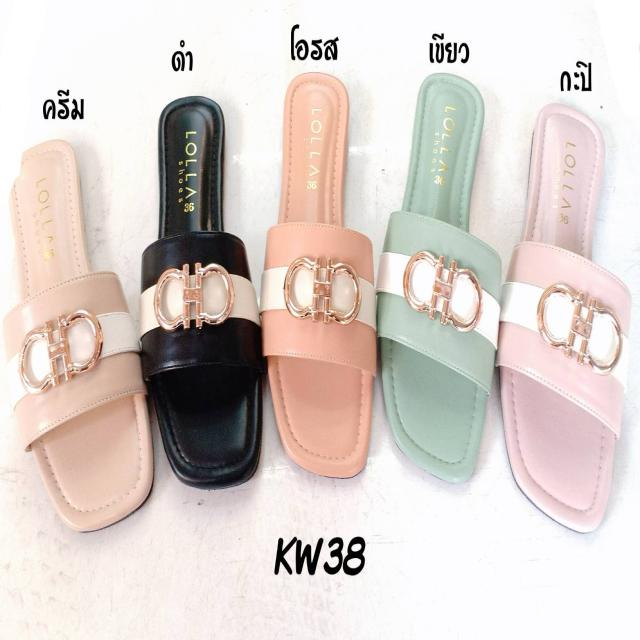black: (151, 96, 261, 489)
cream: (2, 142, 152, 515)
green: (381, 72, 498, 477)
kapi: (508, 100, 626, 523)
orot: (267, 70, 374, 470)
